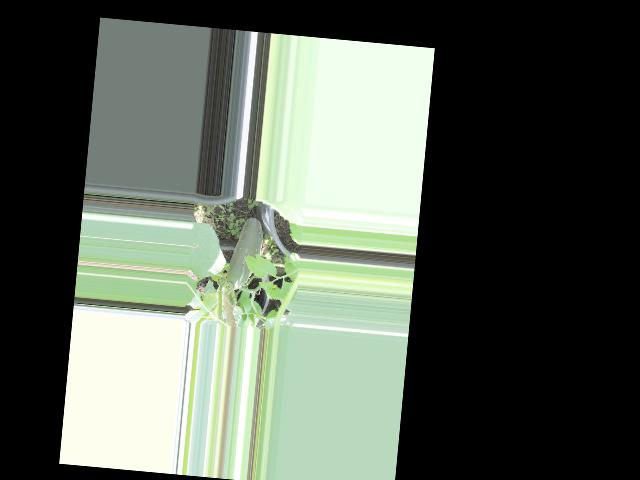cucumber: (225, 216, 264, 291)
